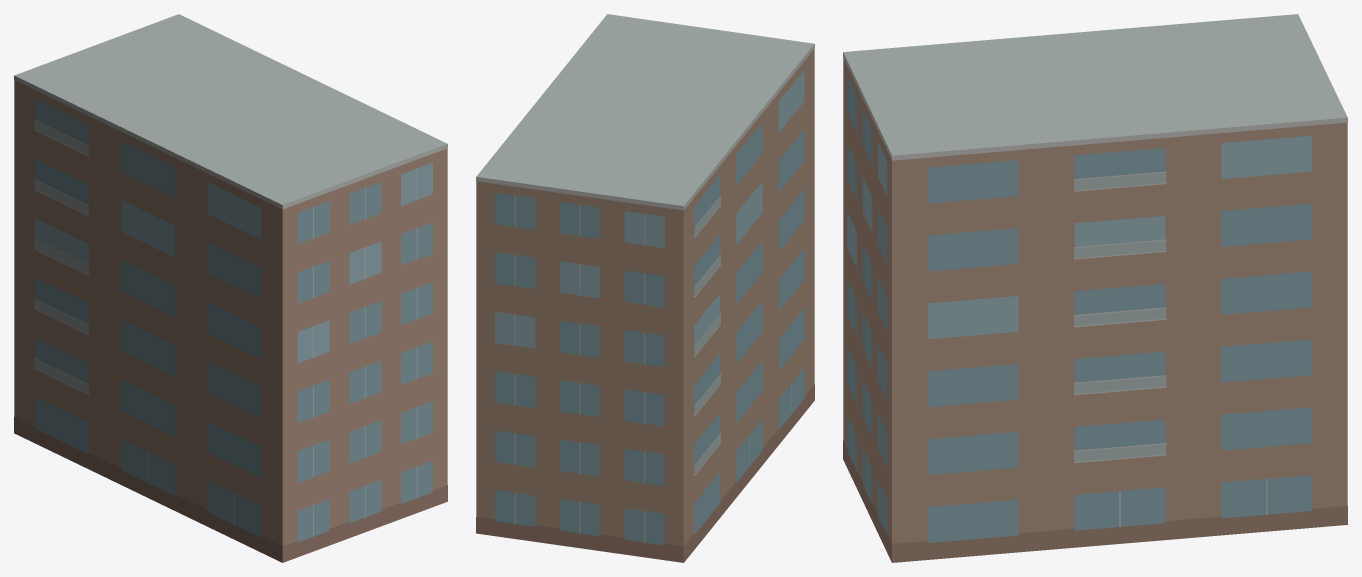
The model's file is survey-upis-32667272.glb.
The picture shows the model from 3 angles, left to right: view 1: azimuth 30°, elevation 25°; view 2: azimuth 150°, elevation 25°; view 3: azimuth 270°, elevation 25°; orthographic projection. The views are drawn at different scales.
Visible parts, largest first — view 1: survey-upis-32667272.tmp; view 2: survey-upis-32667272.tmp; view 3: survey-upis-32667272.tmp.
Boxes of the visible parts, x1,y1,x2,y2 form: survey-upis-32667272.tmp: (14,14,447,562); survey-upis-32667272.tmp: (476,14,814,562); survey-upis-32667272.tmp: (843,14,1347,562).
Size of the model in its own units: 14.86 by 19.9 by 22.36.
